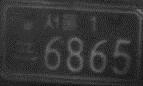1: (88, 13, 100, 36)
5: (110, 37, 132, 74)
6: (43, 33, 63, 72), (88, 37, 107, 73)
8: (66, 36, 84, 73)
서울_O: (43, 13, 79, 32)
프: (11, 38, 41, 63)
